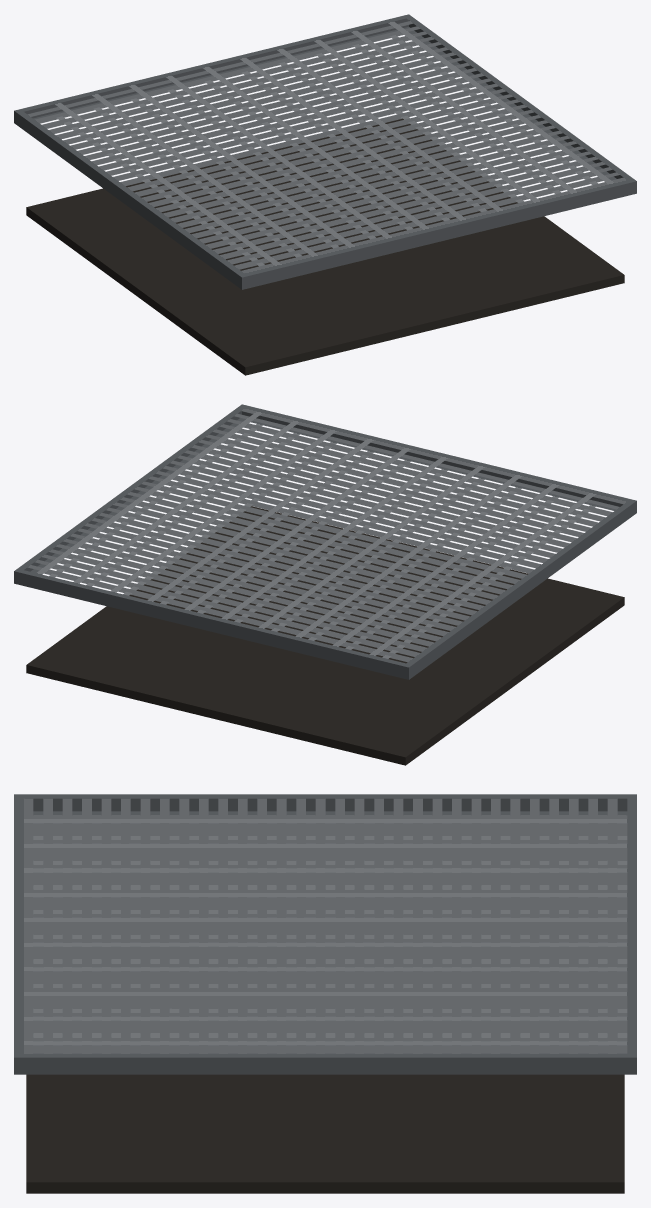
The model's file is t_grate.glb.
3 renders of one model, top to bottom at view 1: azimuth 30°, elevation 25°; view 2: azimuth 150°, elevation 25°; view 3: azimuth 270°, elevation 25°, orthographic. The views are drawn at different scales.
Parts seen in each view (by area): view 1: block_grating, block_sump; view 2: block_grating, block_sump; view 3: block_grating, block_sump.
Boxes of the visible parts, left/top/right/bottom form: block_grating: left=14, top=14, right=636, bottom=289; block_sump: left=26, top=118, right=624, bottom=375; block_grating: left=14, top=404, right=636, bottom=679; block_sump: left=26, top=506, right=624, bottom=765; block_grating: left=14, top=794, right=636, bottom=1074; block_sump: left=26, top=1074, right=624, bottom=1193.
Size of the model in its own units: 1 by 0.25 by 1.
Materials: 2 (2 with a texture image).
